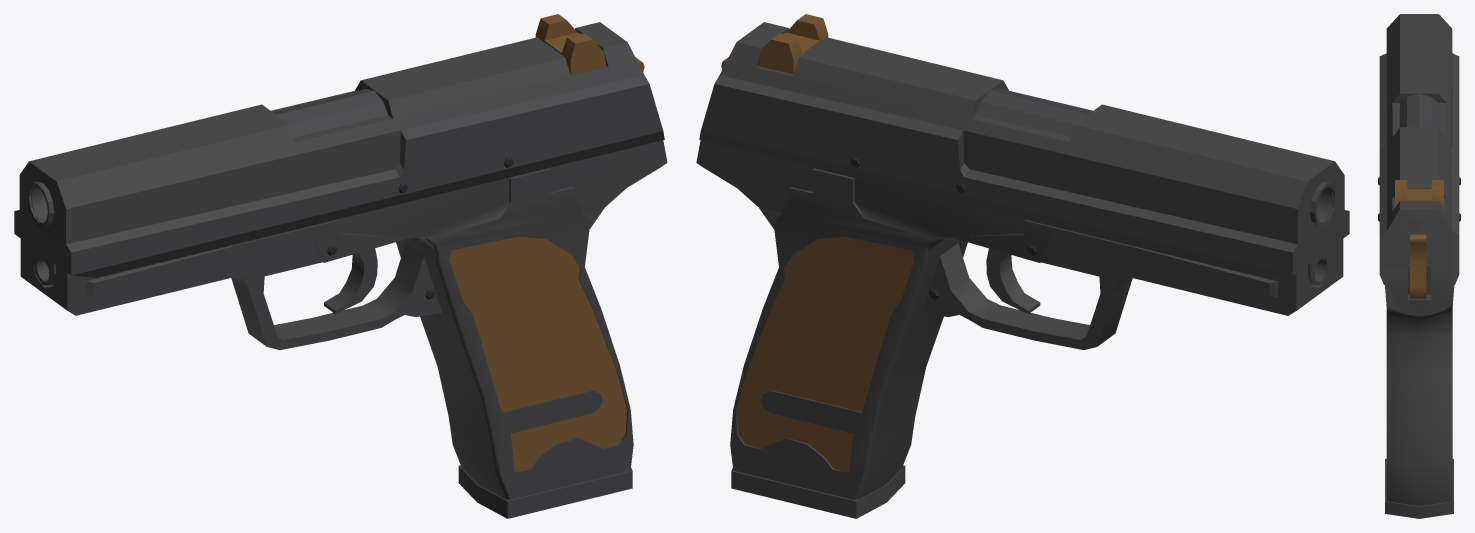
File: pistol (2).fbx
The picture shows the model from 3 angles, left to right: view 1: azimuth 30°, elevation 25°; view 2: azimuth 150°, elevation 25°; view 3: azimuth 270°, elevation 25°; orthographic projection. The views are drawn at different scales.
Parts seen in each view (by area): view 1: fire; view 2: fire; view 3: fire.
Part boxes in pixels (x1,y1,x2,y2): fire: [14, 14, 667, 518]; fire: [696, 14, 1349, 518]; fire: [1378, 14, 1460, 518].
Bounding box in the file's own units: 30.09 × 21.36 × 5.06.
